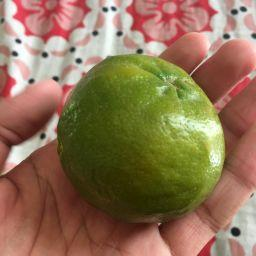Unripe: (59, 55, 225, 223)
